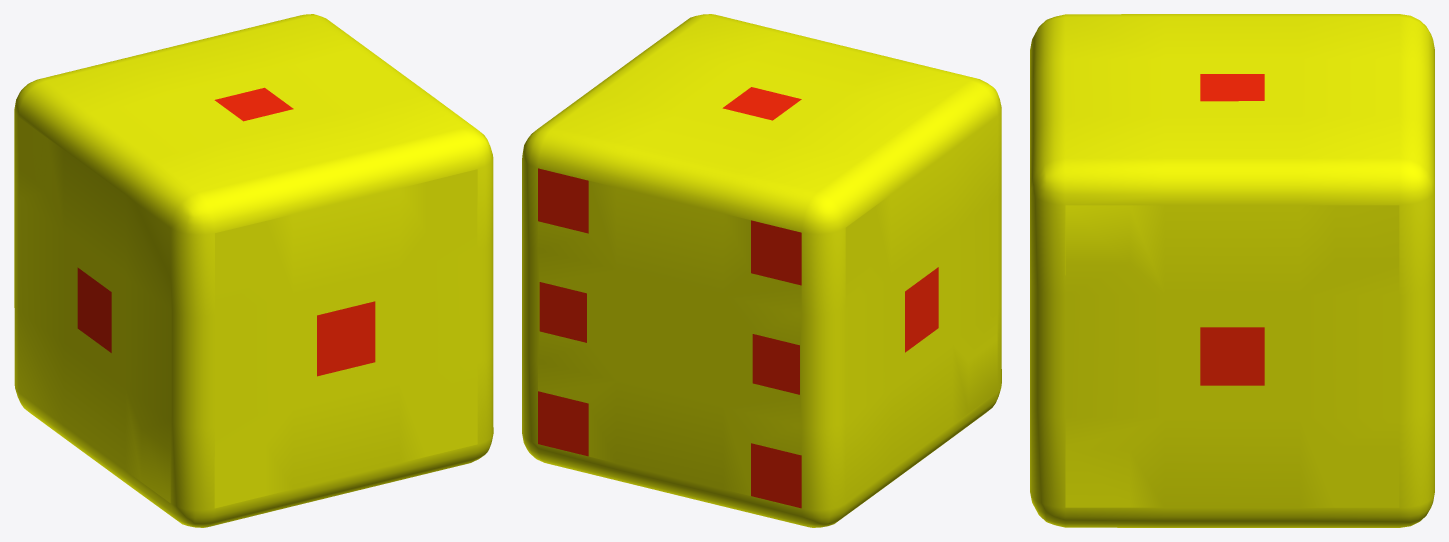
The model's file is AllinDice.fbx.
The picture shows the model from 3 angles, left to right: view 1: azimuth 30°, elevation 25°; view 2: azimuth 150°, elevation 25°; view 3: azimuth 270°, elevation 25°; orthographic projection. The views are drawn at different scales.
Visible parts, largest first — view 1: normal.001; view 2: normal.001; view 3: normal.001.
Boxes of the visible parts, <box> form: normal.001: <box>14,14,493,527</box>; normal.001: <box>522,14,1001,527</box>; normal.001: <box>1030,14,1434,527</box>.
Size of the model in its own units: 200 by 200 by 200.
